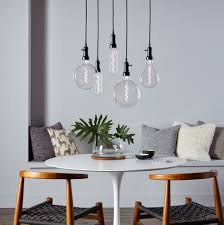bulb: (110, 68, 142, 118), (67, 52, 98, 96), (141, 53, 166, 98), (104, 39, 124, 78), (93, 67, 109, 103)
